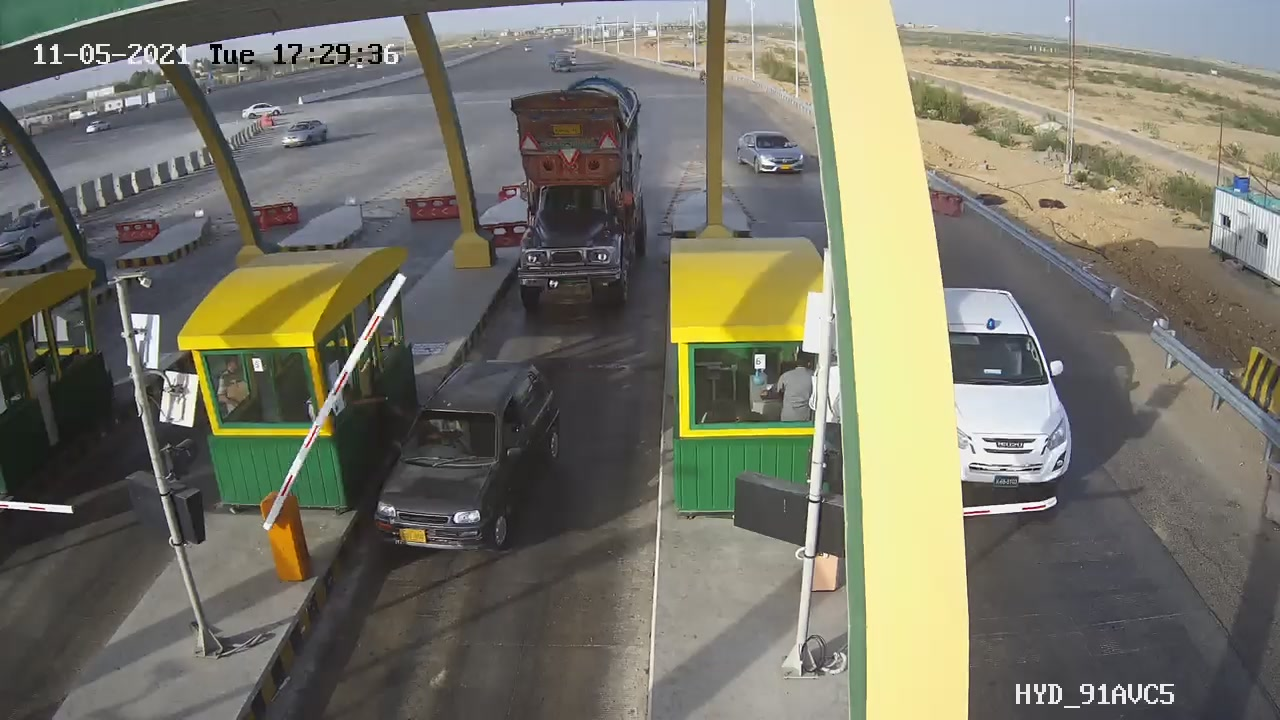F1: (357, 340, 585, 570)
F5: (497, 69, 660, 319)
